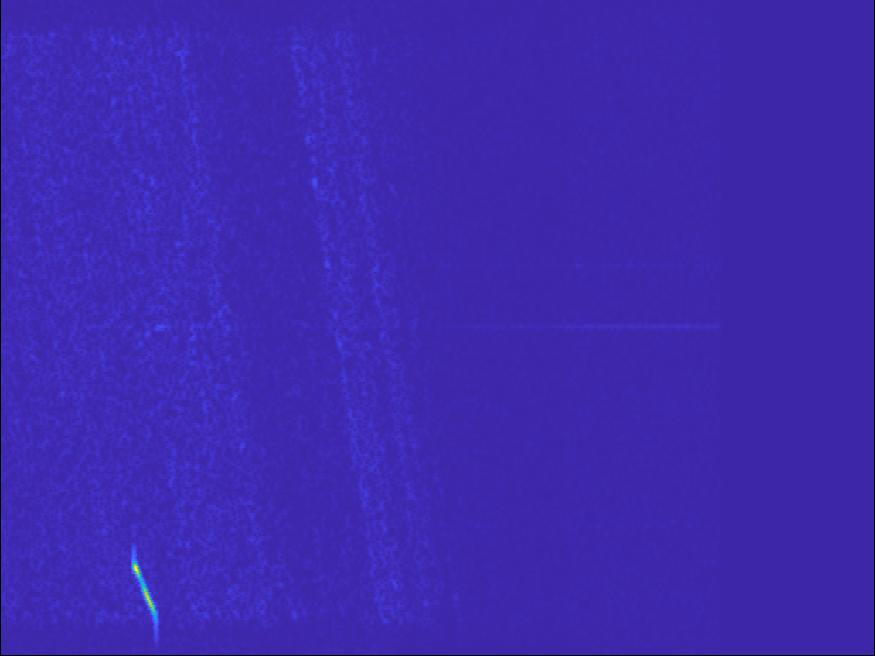Interference: (83, 276, 316, 356)
